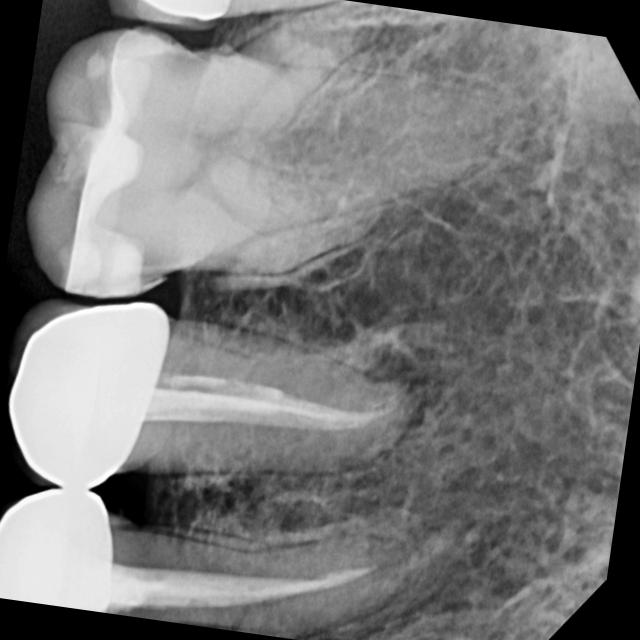Crown: (0, 274, 188, 505), (0, 476, 170, 619)
